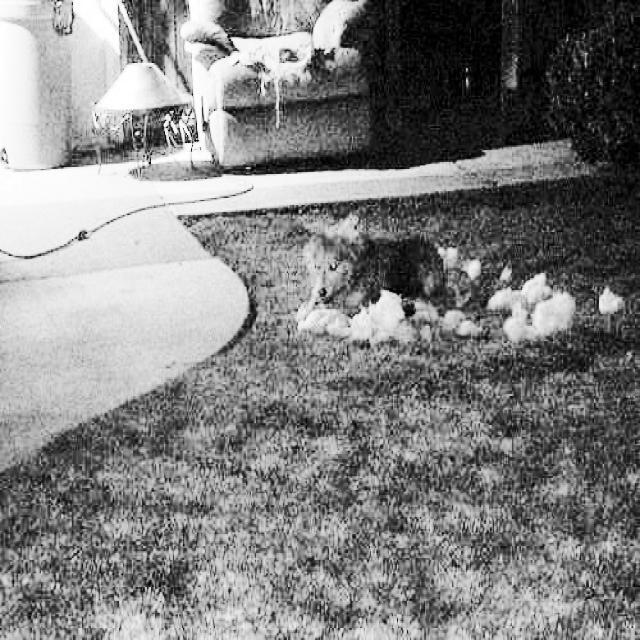Dog: (300, 199, 465, 341)
